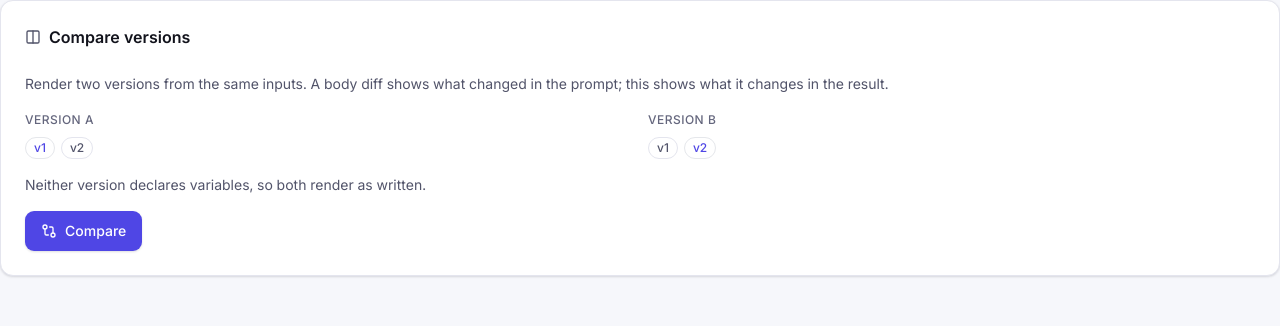
Test: PromptComparison › blocks comparing a version with itself
Click the button with test id "compare-version-a-v2".
click(77, 146)  # box [61, 134, 93, 159]
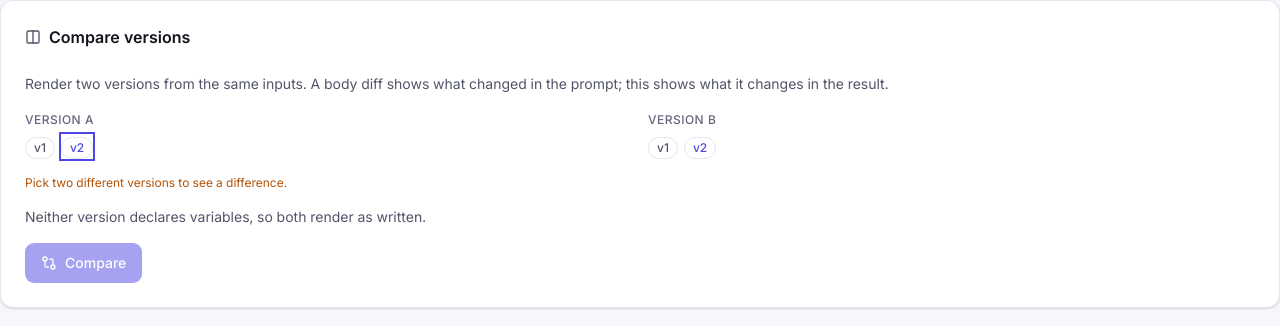
Expected: the text "Pick two different versions to see a difference." is shown, [25, 175, 287, 190]
Expected: the button with test id "compare-submit" is disabled, [25, 243, 142, 283]
